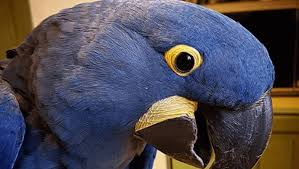guacamaya: (1, 4, 276, 167)
